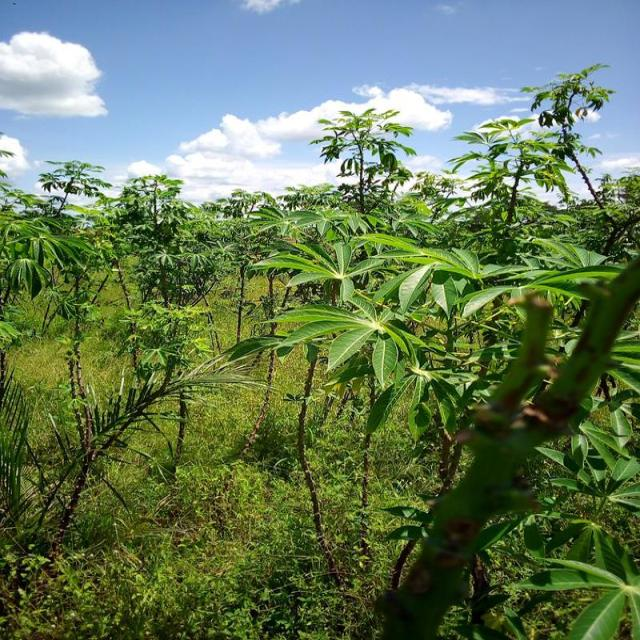cassava leaf: (398, 261, 436, 316)
